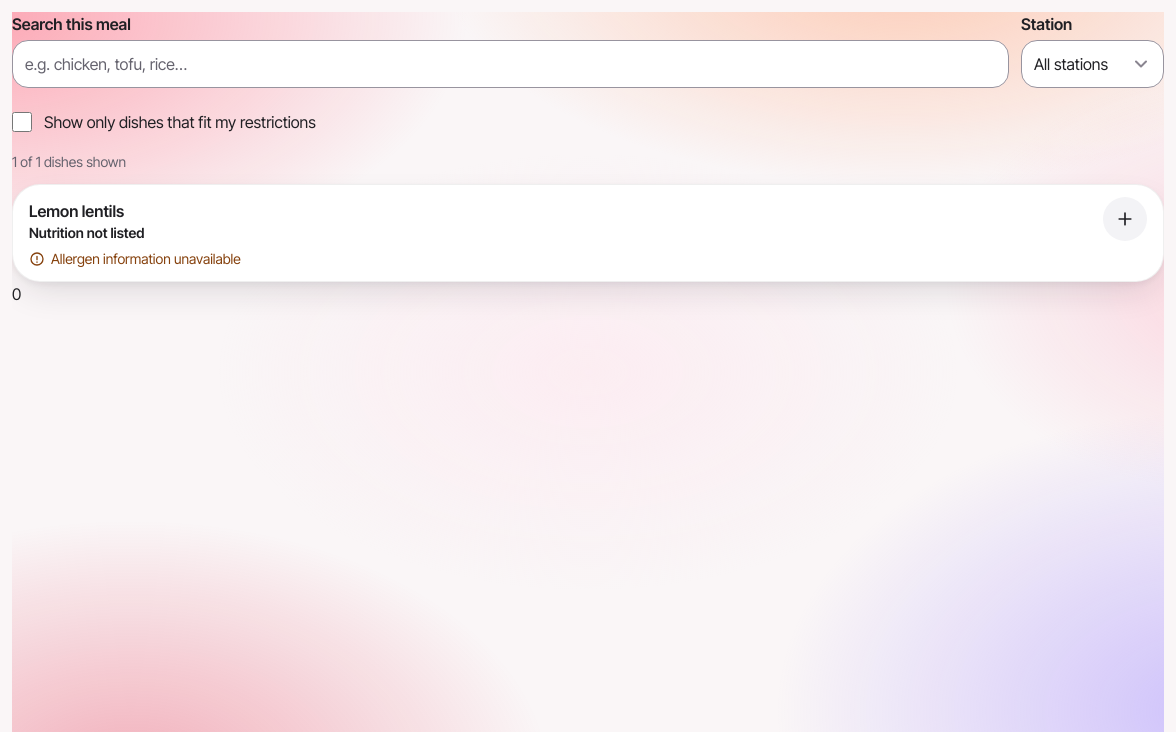
Test: compact menu interaction › makes missing nutrition and unknown allergens explicit with strict unknown set to false
expect the text "Nutrition not listed" is shown: met, box [29,223,144,243]
expect the text "Allergen information unavailable" is shown: met, box [51,249,241,269]
Click the button named "Add Lemon lentils to plate" at (1125, 219), box [1103,197,1147,241]
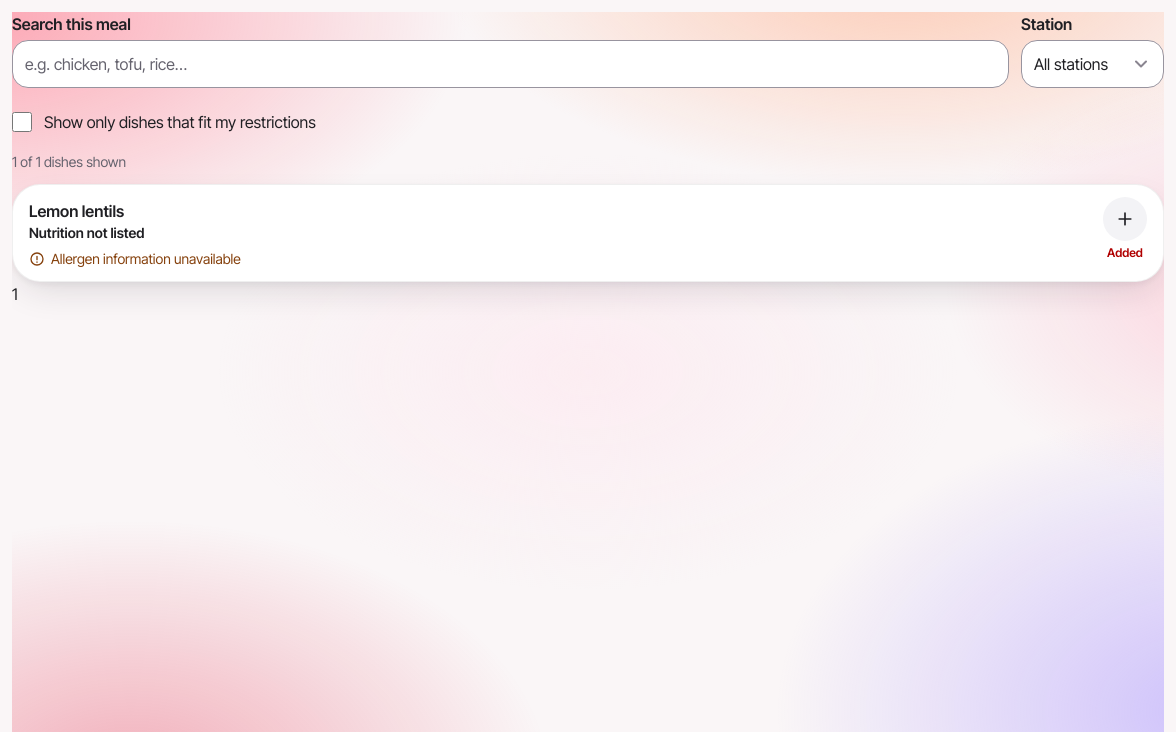
expect the text named "Servings on plate" reads "1": met, box [12,284,18,304]
